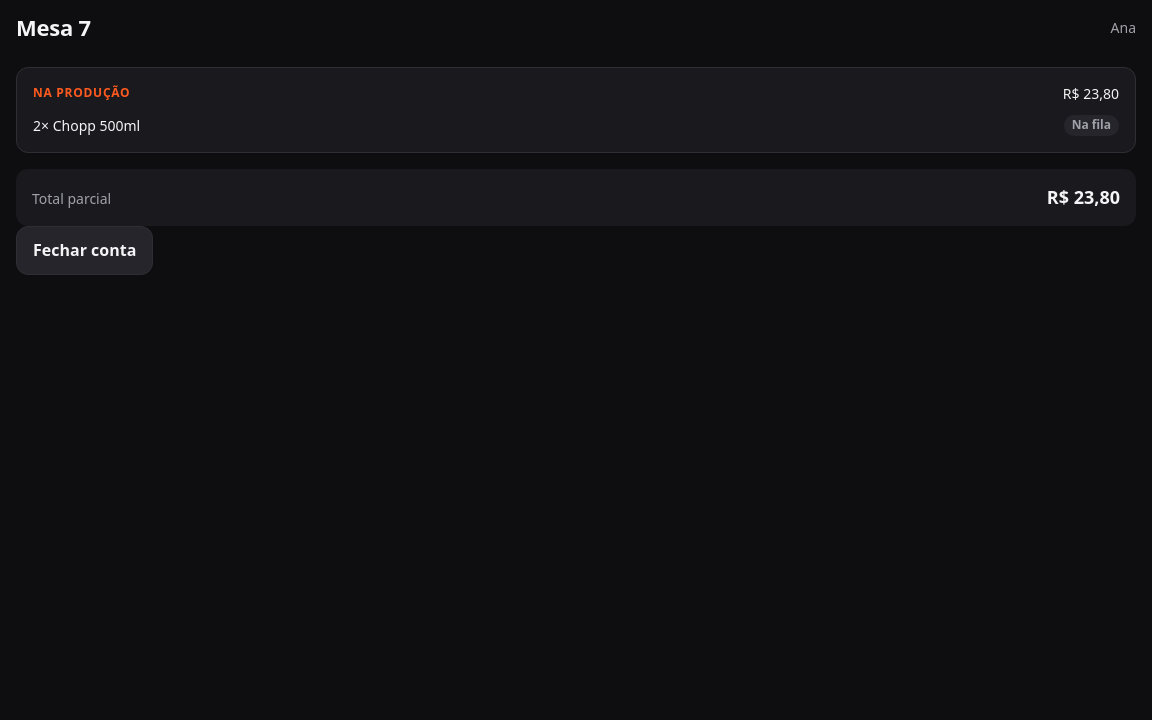
Scenario: Conta da mesa › desmarcar serviço e marcar couvert com 3 pessoas recalcula
Click the button "Fechar conta" at (85, 251), box [16,226,153,275]
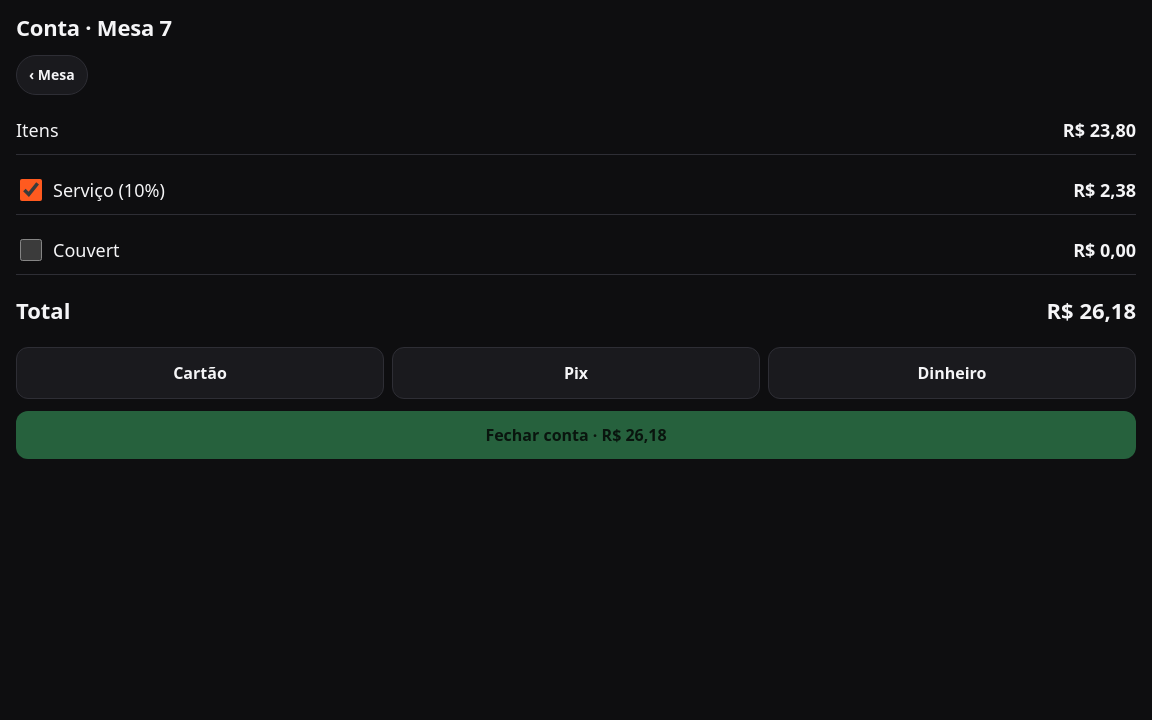
Click the checkbox labelled "Serviço (10%)" at (31, 190), box [20,179,42,201]
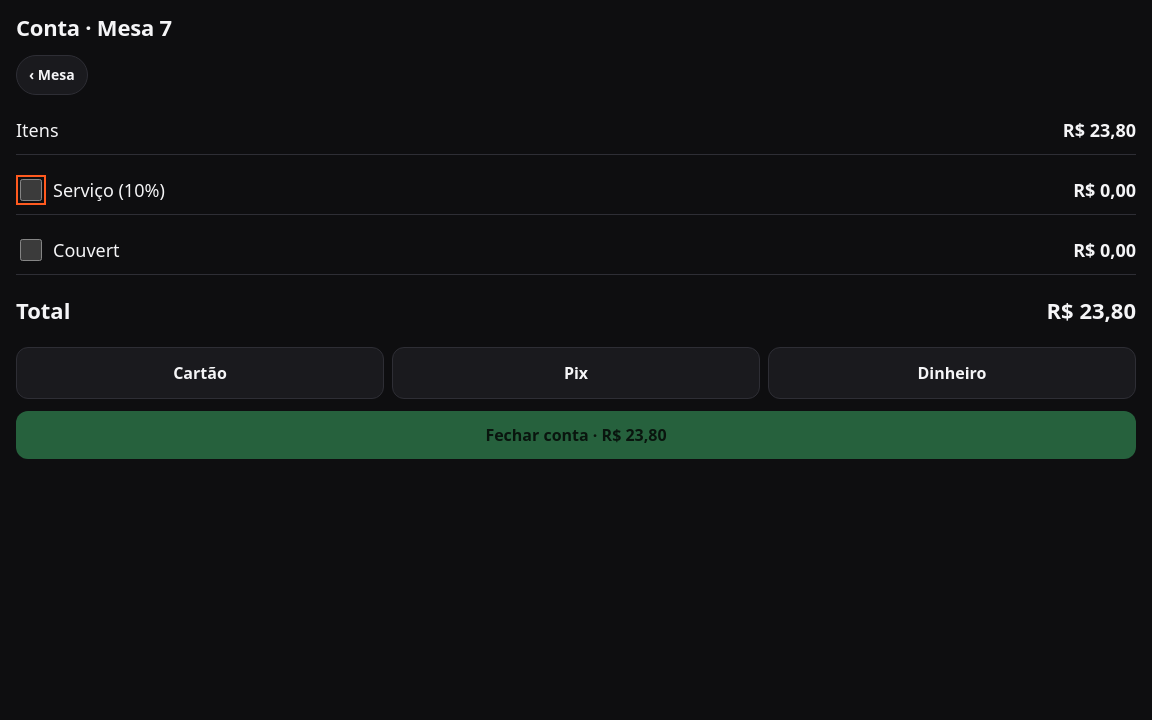
Click the checkbox labelled "Couvert" at (31, 250), box [20,239,42,261]
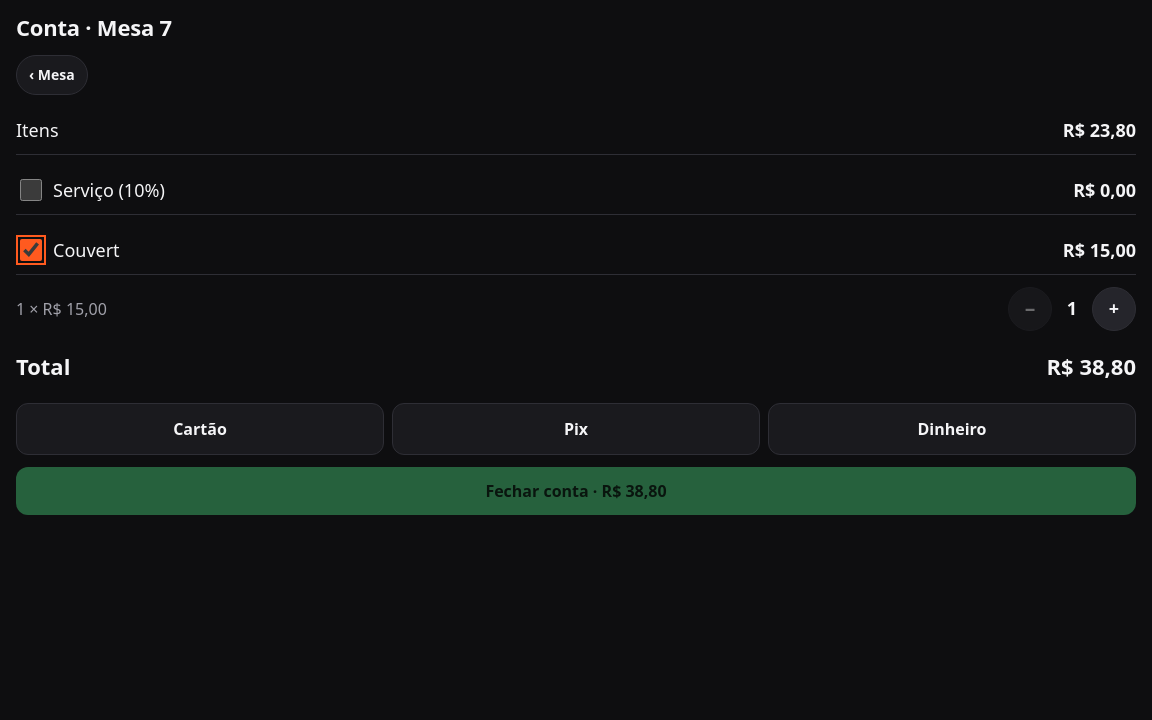
Click the button named "Mais uma pessoa" at (1114, 309), box [1092,287,1136,331]
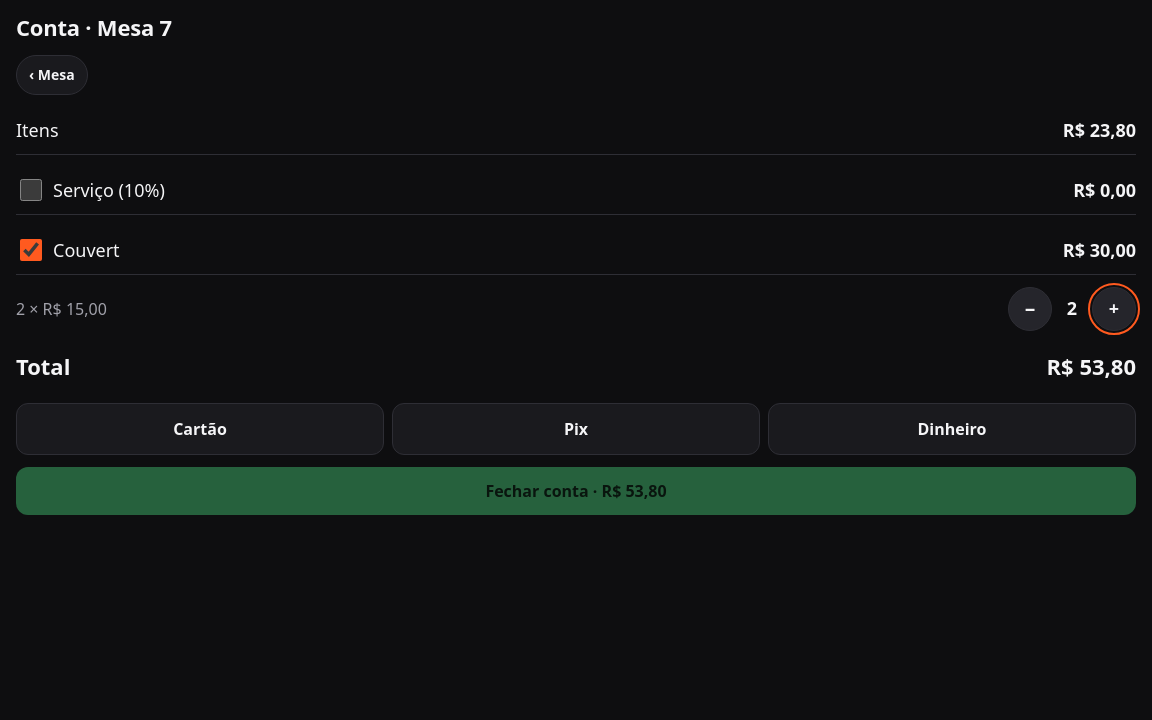
Click the button named "Mais uma pessoa" at (1114, 309), box [1092,287,1136,331]
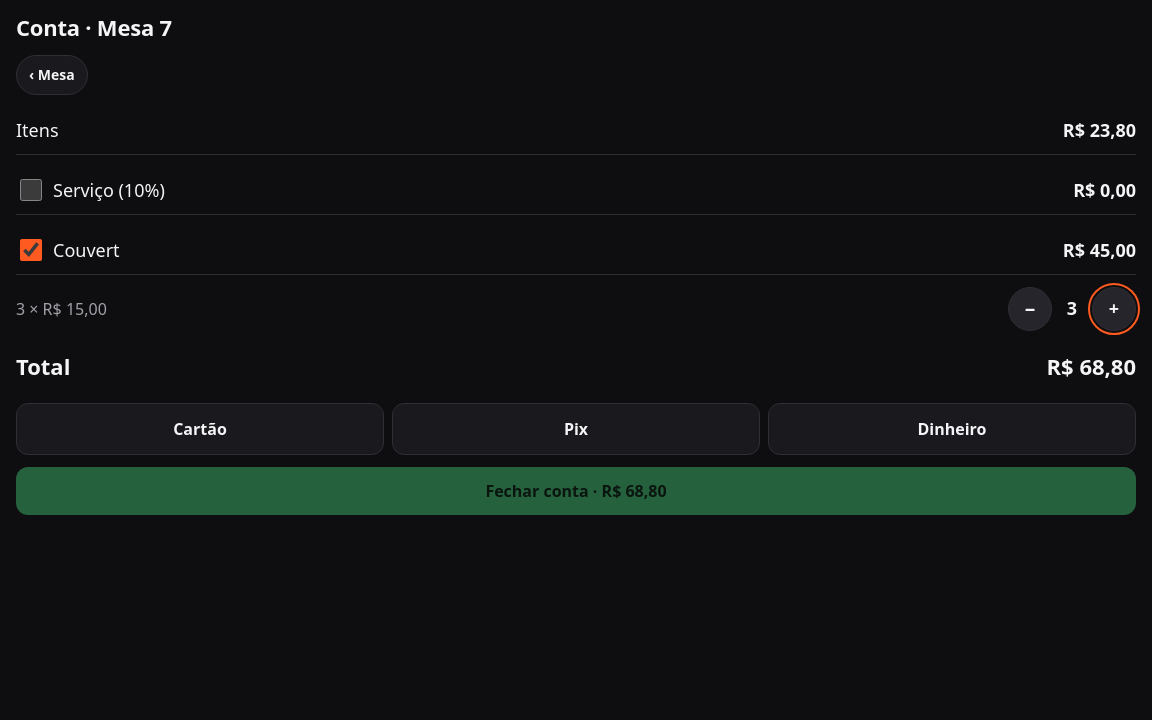
Check: the text named "Pessoas" reads "3", box [1067,296,1077,320]
